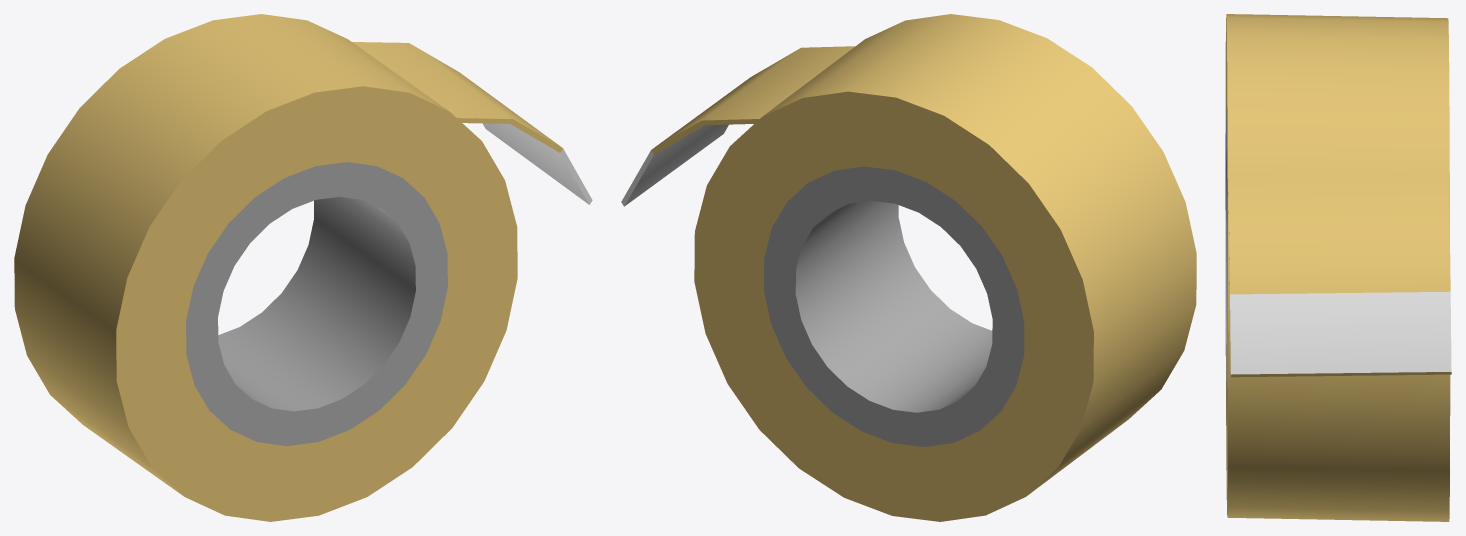
The model's file is bant.fbx.
3 renders of one model, left to right at view 1: azimuth 30°, elevation 25°; view 2: azimuth 150°, elevation 25°; view 3: azimuth 270°, elevation 25°, orthographic. The views are drawn at different scales.
Parts seen in each view (by area): view 1: bant2, bant; view 2: bant2, bant; view 3: bant2, bant.
Boxes of the visible parts, x1,y1,x2,y2 form: bant2: (14, 14, 517, 521); bant: (352, 42, 592, 204); bant2: (694, 14, 1196, 521); bant: (621, 46, 854, 206); bant2: (1225, 14, 1450, 521); bant: (1228, 172, 1451, 377).
Bounding box in the file's own units: 208 × 178 × 78.97.
